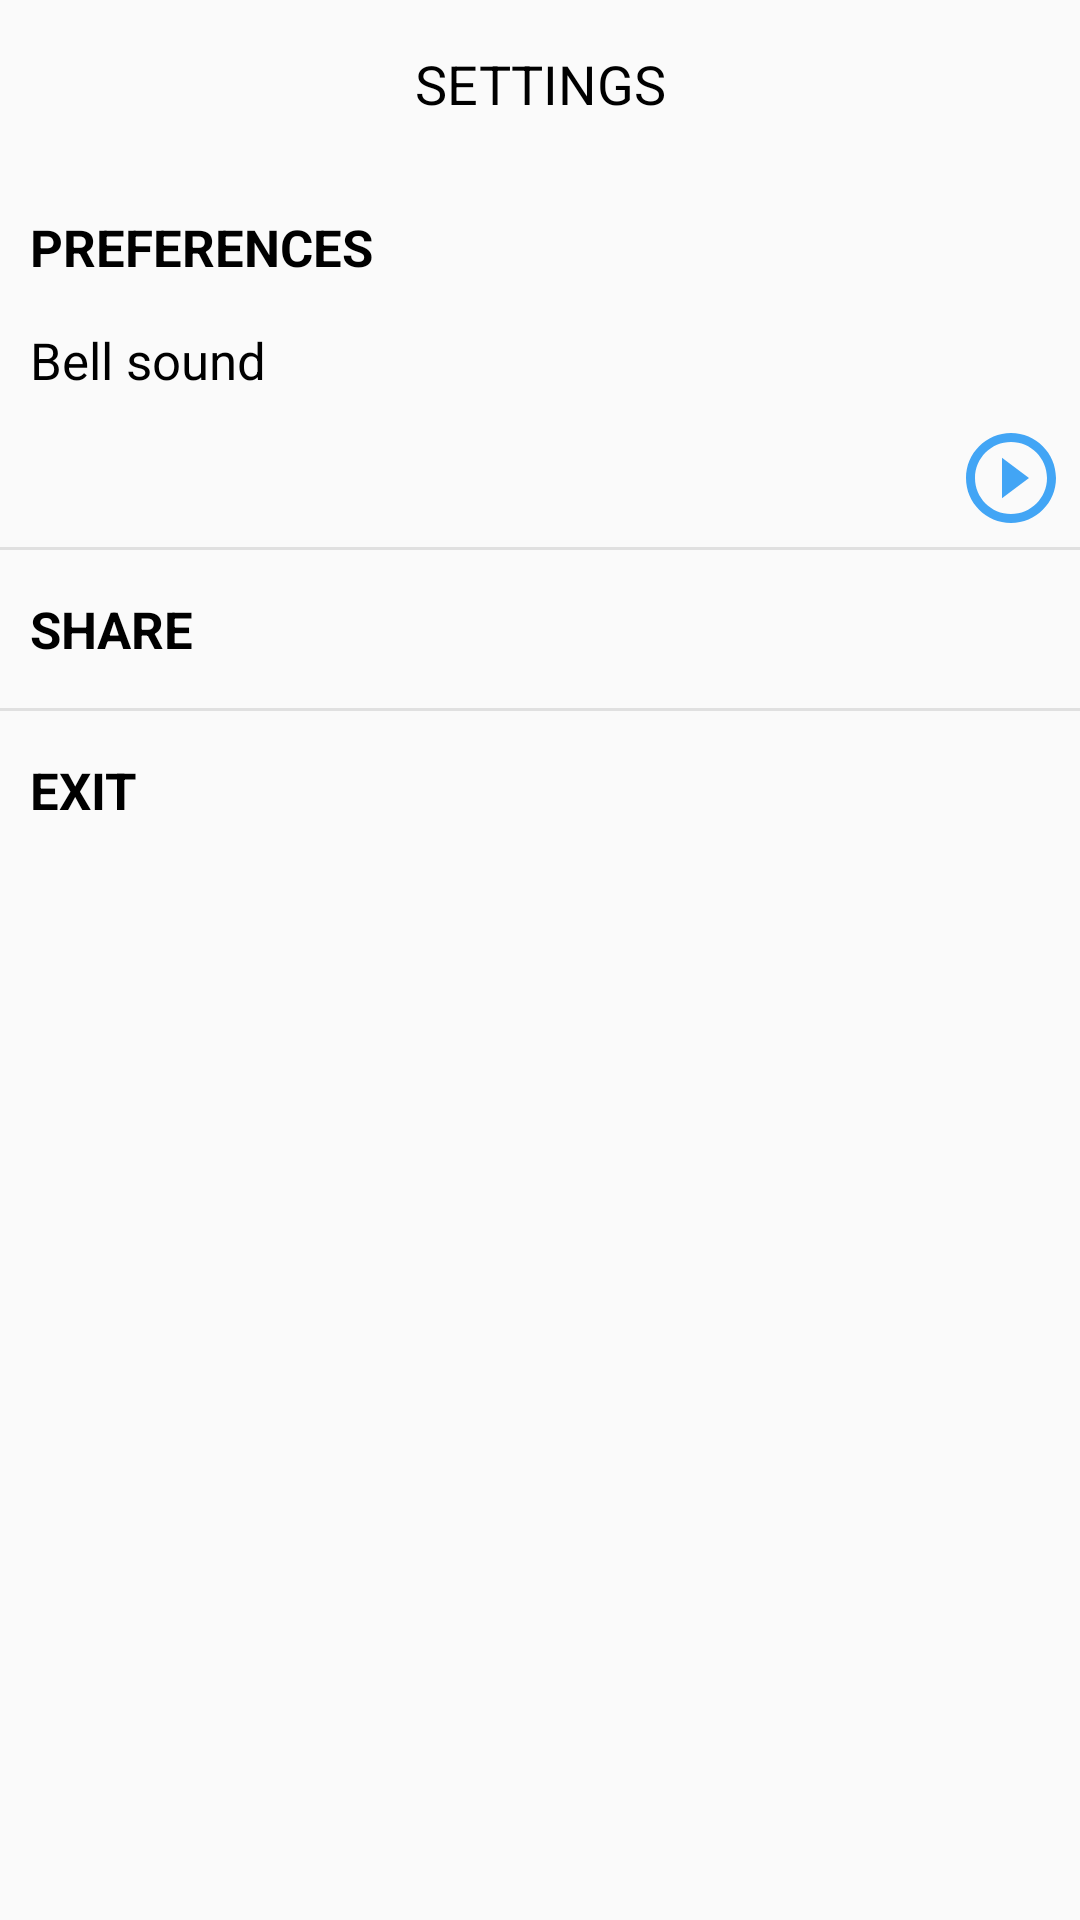

Icons on this 1080*1920 Android screen, each with the point to tap as (x,y):
play: (1011,478)
